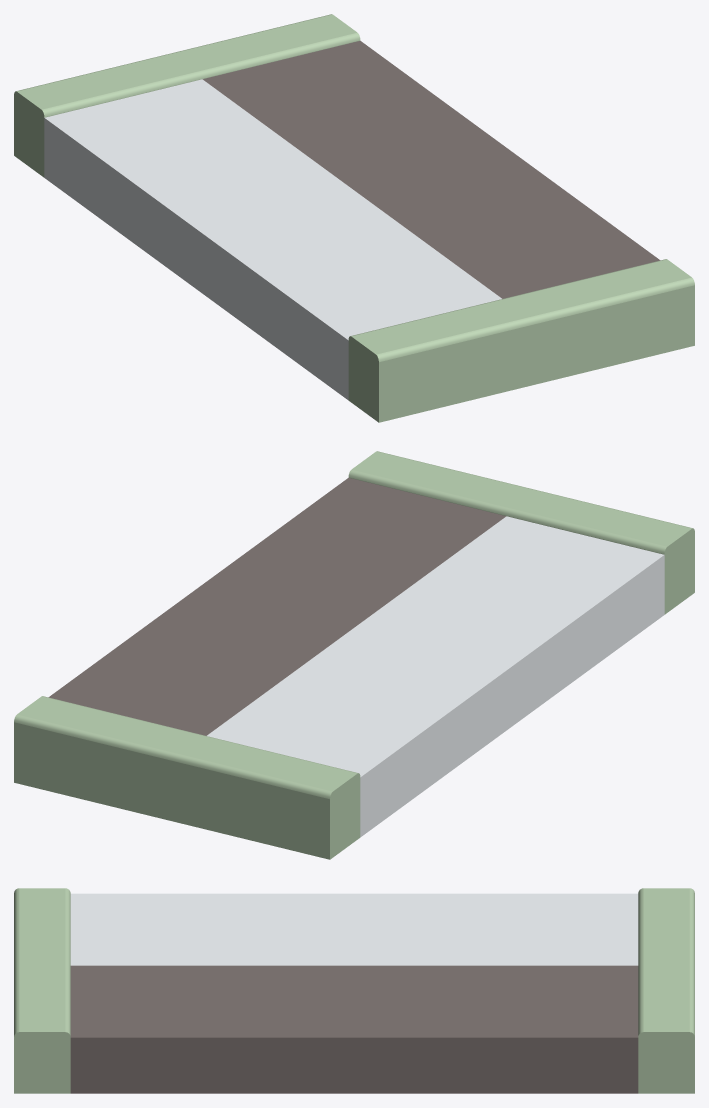
Rendered from Platform.fbx.
The picture shows the model from 3 angles, top to bottom: view 1: azimuth 30°, elevation 25°; view 2: azimuth 150°, elevation 25°; view 3: azimuth 270°, elevation 25°; orthographic projection. The views are drawn at different scales.
Visible parts, largest first — view 1: Platform_Renk3; view 2: Platform_Renk3; view 3: Platform_Renk3.
Part boxes in pixels (x1,y1,x2,y2): Platform_Renk3: [14, 14, 694, 422]; Platform_Renk3: [14, 451, 694, 859]; Platform_Renk3: [14, 888, 694, 1093].
Bounding box in the file's own units: 500 × 100 × 1000.
